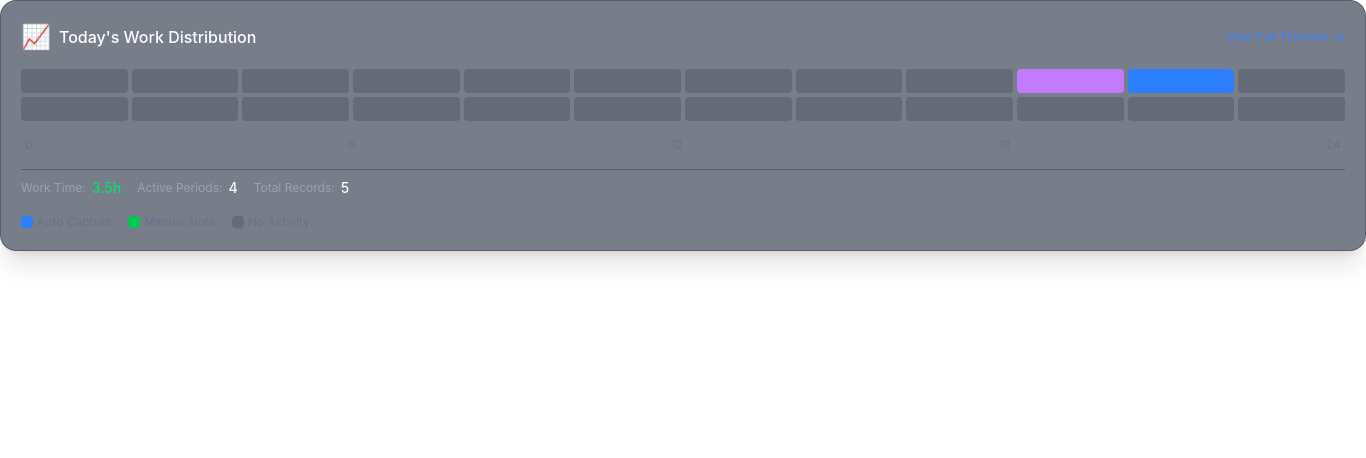
Test case: TimelineWidget › hour interaction › expands hour details on click
The width and height of the screenshot is (1366, 458).
Click on hour 9 (has events)
Click the element named "09:00 - 10:00: 1 auto, 1 manual" at coordinates (1070, 81), box x1=1017 y1=69 x2=1124 y2=93
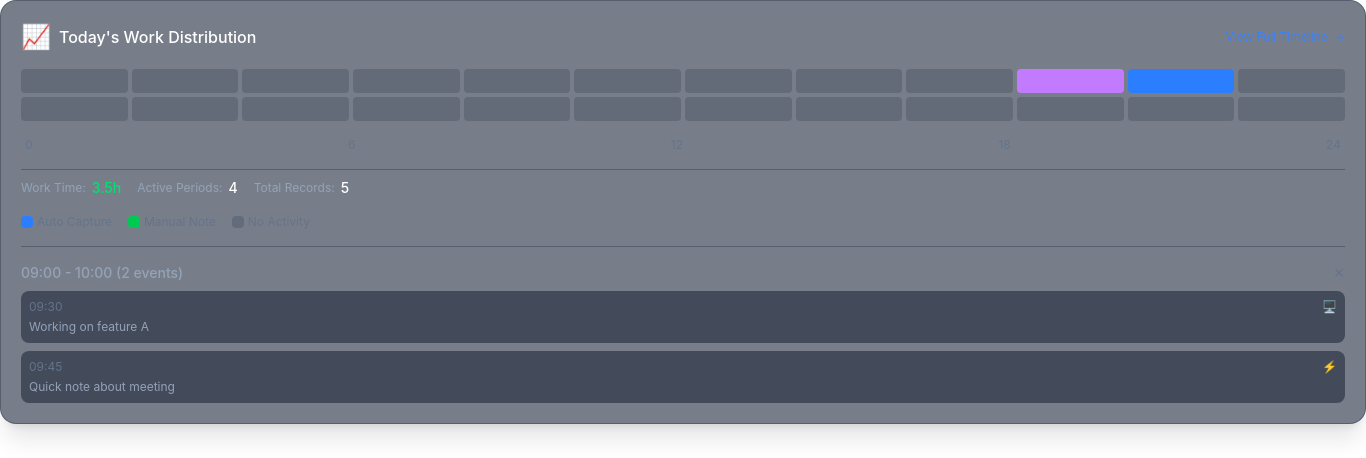
Expected: the text "09:30" is shown, x1=29 y1=299 x2=62 y2=315
